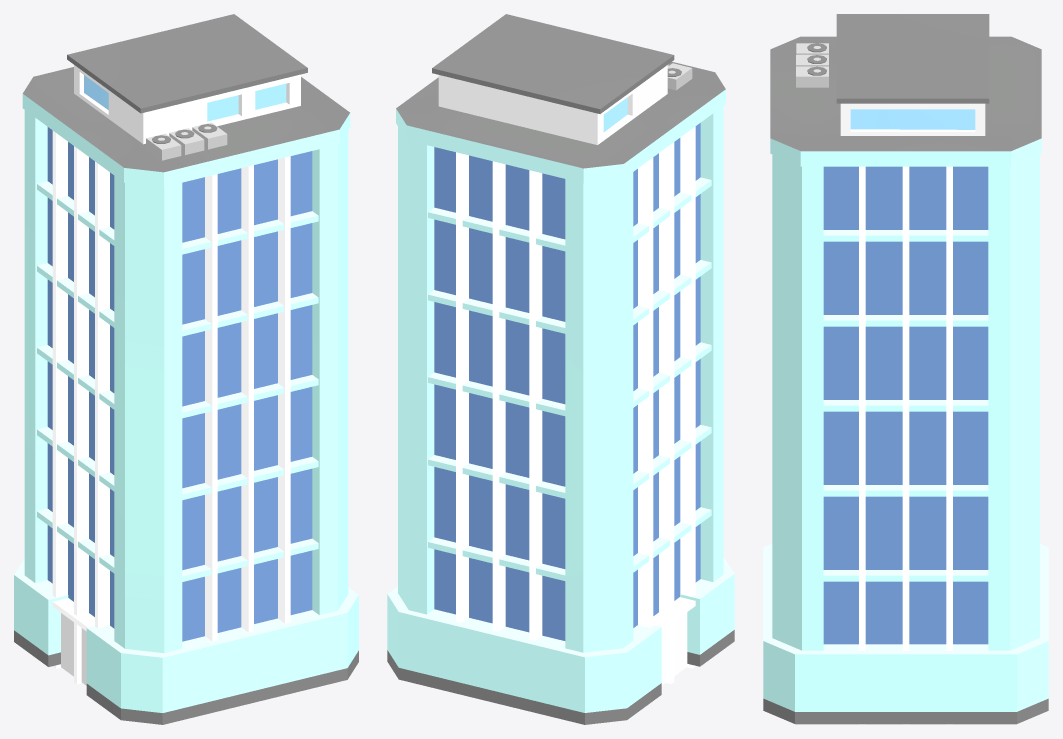
Rendered from tile_for_home_1x1.006 (2).glb.
The picture shows the model from 3 angles, left to right: view 1: azimuth 30°, elevation 25°; view 2: azimuth 150°, elevation 25°; view 3: azimuth 270°, elevation 25°; orthographic projection. The views are drawn at different scales.
Parts seen in each view (by area): view 1: apartment.006; view 2: apartment.006; view 3: apartment.006.
Boxes of the visible parts, x1,y1,x2,y2 form: apartment.006: (14, 14, 358, 724); apartment.006: (387, 14, 734, 724); apartment.006: (763, 14, 1048, 724).
Bounding box in the file's own units: 7.57 × 17.98 × 7.58.
1 material, 1 textured.
